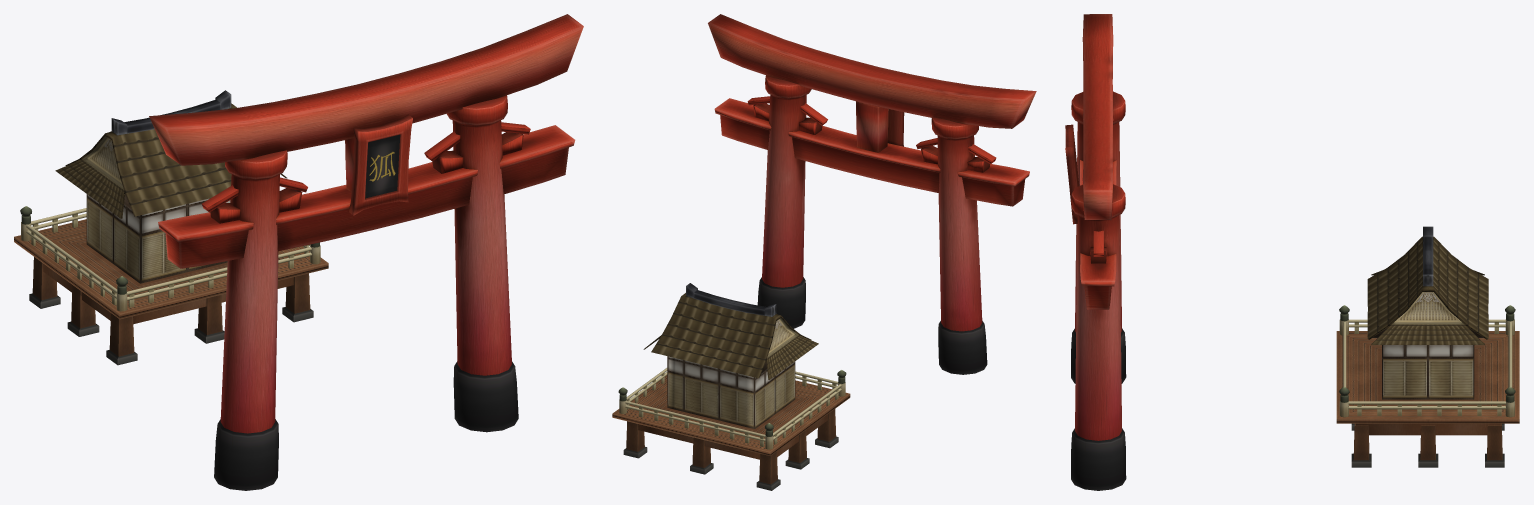
Rendered from present.fbx.
3 views of the same model, side by side, from view 1: azimuth 30°, elevation 25°; view 2: azimuth 150°, elevation 25°; view 3: azimuth 270°, elevation 25° (orthographic). The views are drawn at different scales.
Parts seen in each view (by area): view 1: Torii_G1_partsA, temple; view 2: Torii_G1_partsA, temple; view 3: temple, Torii_G1_partsA.
Part boxes in pixels (box(x1,y1,x2,y2)): Torii_G1_partsA: box(149, 14, 583, 490); temple: box(14, 90, 328, 365); Torii_G1_partsA: box(708, 14, 1036, 374); temple: box(612, 283, 850, 490); temple: box(1336, 226, 1519, 467); Torii_G1_partsA: box(1065, 14, 1126, 490).
Bounding box in the file's own units: 76.26 × 65.8 × 82.86.
